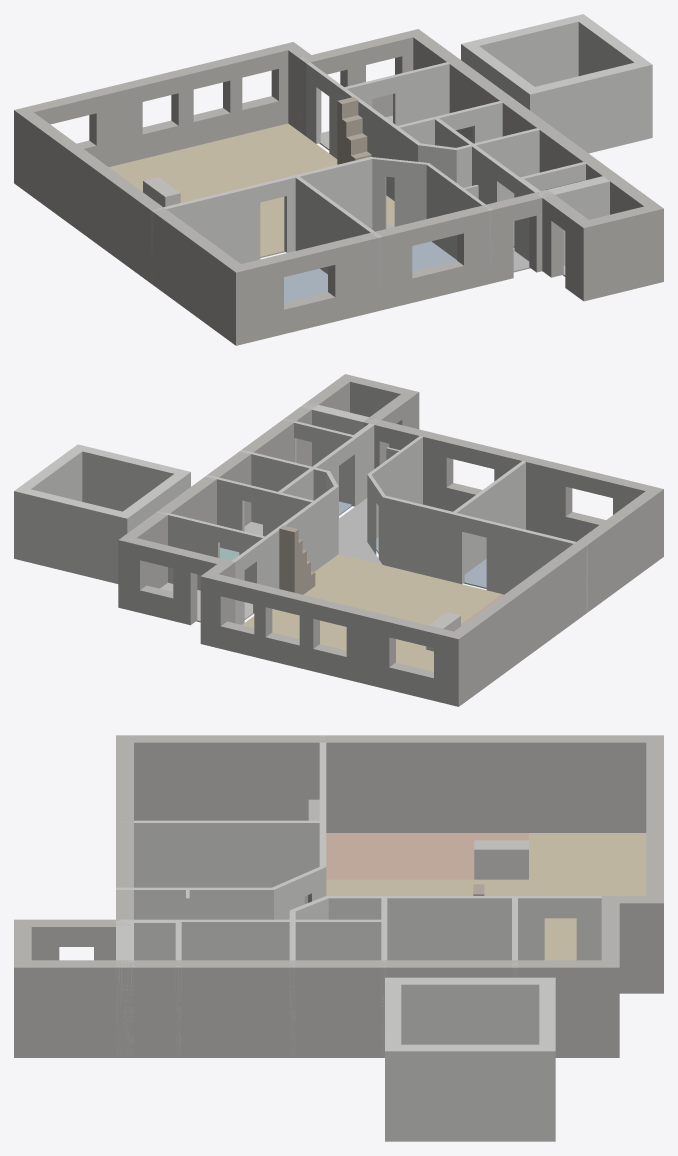
File: PROP_1088.glb
3 views of the same model, one above another, from view 1: azimuth 30°, elevation 25°; view 2: azimuth 150°, elevation 25°; view 3: azimuth 270°, elevation 25° (orthographic). The views are drawn at different scales.
Parts seen in each view (by area): view 1: L0_wall_F0_W6, L0_wall_F0_W7, L0_wall_F0_W0, L0_floor_F0_R2_0, L0_wall_F0_W11, L0_wall_F0_W23, L0_wall_F0_W3, L0_wall_F0_W4, L0_wall_F0_W21, L0_wall_F0_W14, L0_wall_F0_W17, L0_wall_F0_W2 (+18 smaller); view 2: L0_wall_F0_W0, L0_wall_F0_W7, L0_wall_F0_W6, L0_wall_F0_W11, L0_floor_F0_R2_0, L0_wall_F0_W21, L0_wall_F0_W3, L0_wall_F0_W2, L0_wall_F0_W14, L0_wall_F0_W23, L0_wall_F0_W25, L0_wall_F0_W18 (+16 smaller); view 3: L0_wall_F0_W7, L0_wall_F0_W3, L0_wall_F0_W22, L0_wall_F0_W14, L0_wall_F0_W25, L0_floor_F0_R2_0, L0_wall_F0_W20, L0_wall_F0_W19, L0_floor_F0_R3_0, L0_wall_F0_W9, L0_wall_F0_W1, L0_wall_F0_W6 (+14 smaller).
Boxes of the visible parts, left/top/right/bottom form: L0_wall_F0_W6: left=236, top=189, right=547, bottom=345; L0_wall_F0_W7: left=14, top=110, right=240, bottom=345; L0_wall_F0_W0: left=15, top=42, right=292, bottom=166; L0_floor_F0_R2_0: left=109, top=123, right=394, bottom=257; L0_wall_F0_W11: left=151, top=157, right=372, bottom=280; L0_wall_F0_W23: left=530, top=62, right=652, bottom=153; L0_wall_F0_W3: left=413, top=29, right=663, bottom=214; L0_wall_F0_W4: left=583, top=206, right=663, bottom=301; L0_wall_F0_W21: left=461, top=14, right=583, bottom=86; L0_wall_F0_W14: left=299, top=57, right=420, bottom=200; L0_wall_F0_W17: left=340, top=59, right=458, bottom=125; L0_wall_F0_W2: left=306, top=29, right=418, bottom=132; L0_wall_F0_W0: left=200, top=574, right=458, bottom=706; L0_wall_F0_W7: left=454, top=489, right=663, bottom=706; L0_wall_F0_W6: left=363, top=420, right=663, bottom=541; L0_wall_F0_W11: left=382, top=495, right=587, bottom=612; L0_floor_F0_R2_0: left=242, top=554, right=501, bottom=671; L0_wall_F0_W21: left=14, top=489, right=127, bottom=583; L0_wall_F0_W3: left=119, top=374, right=349, bottom=588; L0_wall_F0_W2: left=118, top=538, right=234, bottom=625; L0_wall_F0_W14: left=232, top=486, right=338, bottom=624; L0_wall_F0_W23: left=78, top=444, right=189, bottom=511; L0_wall_F0_W25: left=450, top=461, right=525, bottom=582; L0_wall_F0_W18: left=206, top=475, right=316, bottom=551; L0_wall_F0_W7: left=117, top=735, right=662, bottom=832; L0_wall_F0_W3: left=14, top=960, right=619, bottom=1057; L0_wall_F0_W22: left=385, top=1044, right=555, bottom=1141; L0_wall_F0_W14: left=326, top=896, right=618, bottom=960; L0_wall_F0_W25: left=122, top=820, right=325, bottom=903; L0_floor_F0_R2_0: left=326, top=833, right=646, bottom=960; L0_wall_F0_W20: left=385, top=977, right=554, bottom=1044; L0_wall_F0_W19: left=176, top=919, right=386, bottom=960; L0_floor_F0_R3_0: left=326, top=833, right=528, bottom=879; L0_wall_F0_W9: left=116, top=887, right=273, bottom=960; L0_wall_F0_W1: left=602, top=896, right=663, bottom=993; L0_wall_F0_W6: left=116, top=735, right=133, bottom=924.
Bounding box in the file's own units: 20.27 × 2.8 × 17.61.
